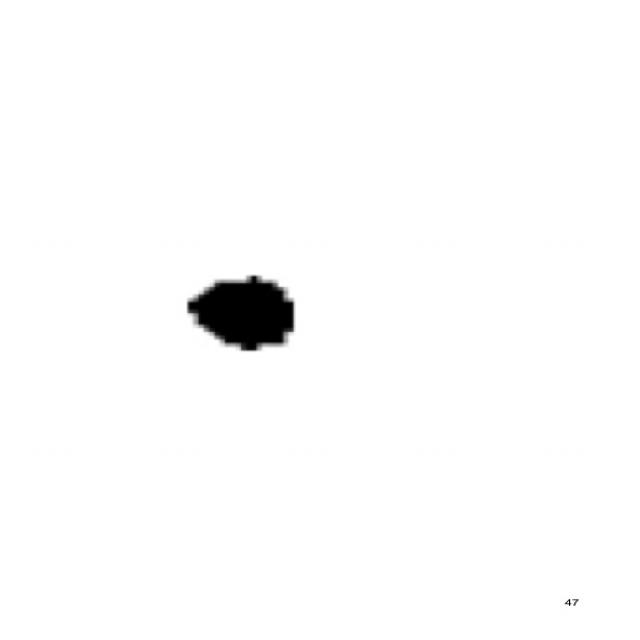0 -zero-: (175, 266, 306, 359)
